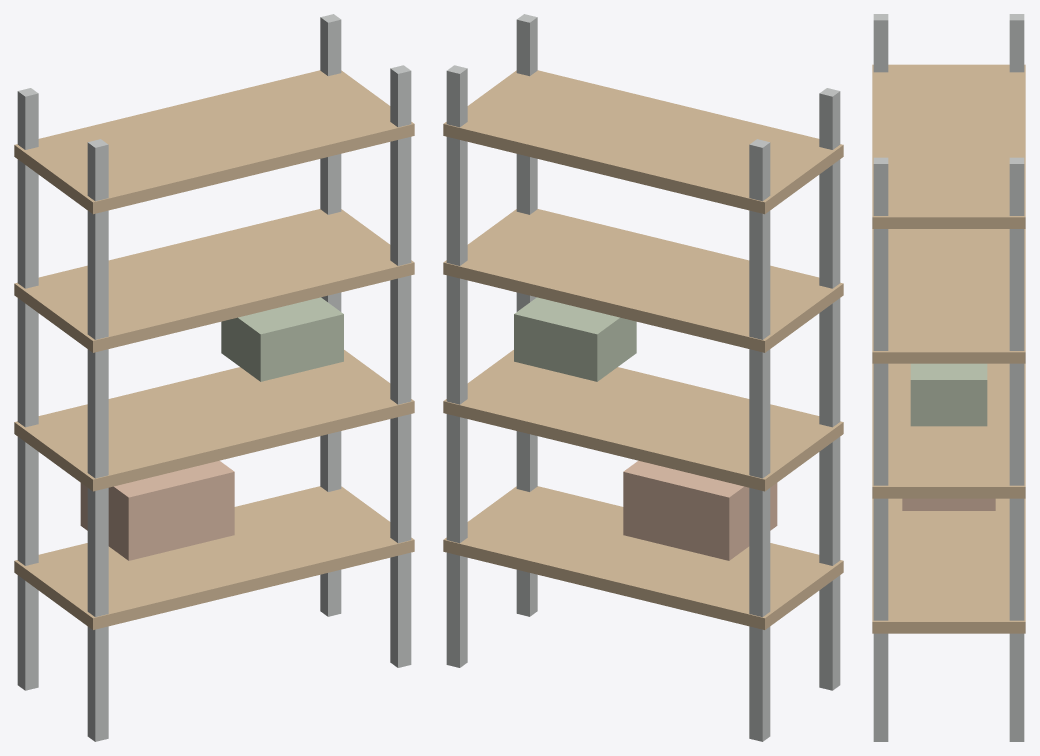
File: rack.glb
3 views of the same model, side by side, from view 1: azimuth 30°, elevation 25°; view 2: azimuth 150°, elevation 25°; view 3: azimuth 270°, elevation 25° (orthographic). The views are drawn at different scales.
Visible parts, largest first — view 1: root; view 2: root; view 3: root.
Boxes of the visible parts, x1,y1,x2,y2 form: root: (14,14,414,741); root: (443,14,843,741); root: (872,14,1025,741).
Bounding box in the file's own units: 0.85 × 1.5 × 0.36.
